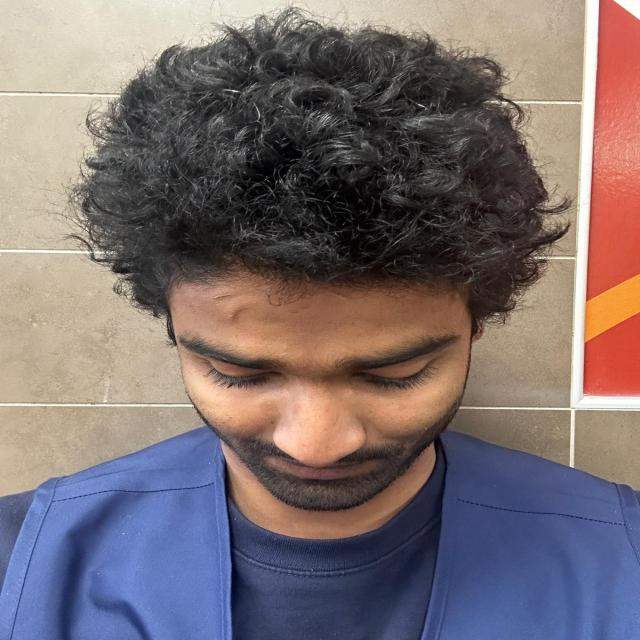nocap: (66, 27, 564, 323)
